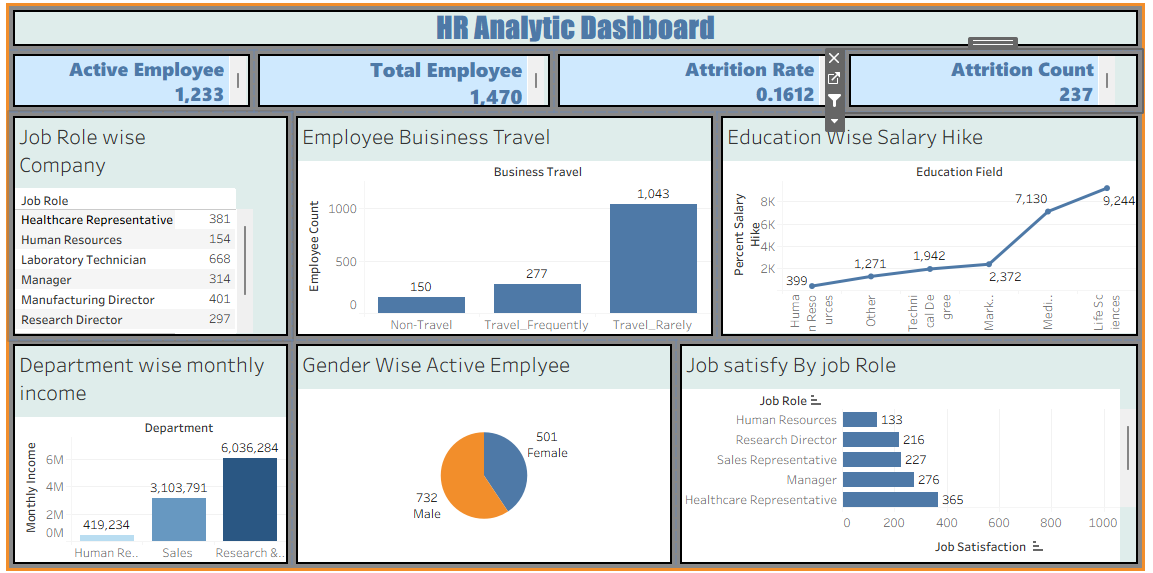

The dashboard page shown, as its layout file describes it:
{"tool":"tableau","page":{"name":"Dashboard 1","canvas":[1000,1000],"units":"permille","ordinal":0},"visuals":[{"type":"text","box":[9.5,18.8,980.9,76.2]},{"type":"worksheet","title":"Active Emplyees","mark":"Automatic","box":[9.5,95,212.1,105]},{"type":"worksheet","title":"Total Employee","mark":"Automatic","box":[221.7,95,259.8,105]},{"type":"worksheet","title":"Attrition Rate","mark":"Automatic","box":[481.4,95,251.5,105]},{"type":"worksheet","title":"Attrition Count","mark":"Automatic","box":[732.9,95,257.6,105]},{"type":"worksheet","title":"Job Role wise Company","mark":"Automatic","rows":["JobRole"],"box":[9.5,200.1,245.2,390.5]},{"type":"worksheet","title":"Employee Buisiness Travel ","mark":"Automatic","rows":["EmployeeCount"],"cols":["BusinessTravel"],"box":[254.7,200.1,367.8,390.5]},{"type":"worksheet","title":"Education Wise Salary Hike","mark":"Line","rows":["PercentSalaryHike"],"cols":["EducationField"],"box":[622.6,200.1,367.9,390.5]},{"type":"worksheet","title":"Department wise monthly income","mark":"Automatic","rows":["MonthlyIncome"],"cols":["Department"],"box":[9.5,590.6,245.2,390.6]},{"type":"worksheet","title":"Gender Wise Active Emplyee","mark":"Pie","box":[254.7,590.6,332.7,390.6]},{"type":"worksheet","title":"Job satisfy By job Role","mark":"Automatic","rows":["JobRole"],"cols":["JobSatisfaction"],"box":[587.4,590.6,403.1,390.6]}]}

Visuals, with their boxes on the dashboard's canvas, which has no fixed pixel size, in thousandths of its width and height (x1, y1, x2, y2). These are canvas units, not pixel positions in the 1153x573 screenshot, which may show the page scaled, cropped or inside an application window:
text: [left=10, top=19, right=990, bottom=95]
"Active Emplyees" worksheet: [left=10, top=95, right=222, bottom=200]
"Total Employee" worksheet: [left=222, top=95, right=482, bottom=200]
"Attrition Rate" worksheet: [left=481, top=95, right=733, bottom=200]
"Attrition Count" worksheet: [left=733, top=95, right=990, bottom=200]
"Job Role wise Company" worksheet: [left=10, top=200, right=255, bottom=591]
"Employee Buisiness Travel " worksheet: [left=255, top=200, right=622, bottom=591]
"Education Wise Salary Hike" worksheet (Line marks): [left=623, top=200, right=990, bottom=591]
"Department wise monthly income" worksheet: [left=10, top=591, right=255, bottom=981]
"Gender Wise Active Emplyee" worksheet (Pie marks): [left=255, top=591, right=587, bottom=981]
"Job satisfy By job Role" worksheet: [left=587, top=591, right=990, bottom=981]
